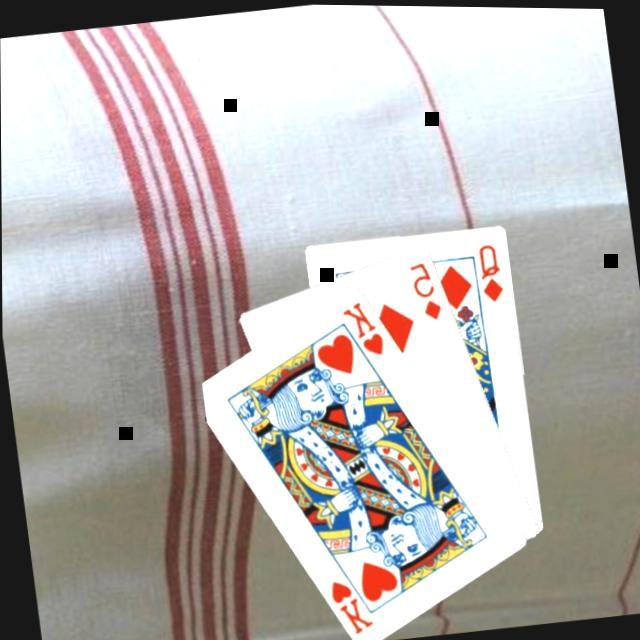5D: (403, 253, 444, 321)
KH: (336, 291, 387, 359), (324, 570, 375, 637)
QD: (472, 235, 507, 302)
